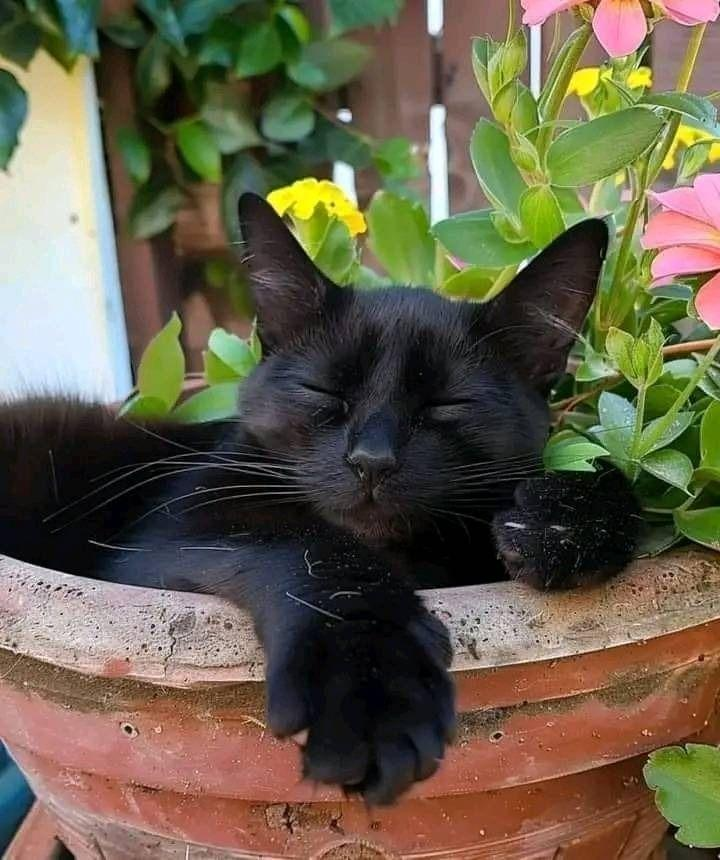kedo: (7, 190, 636, 805)
